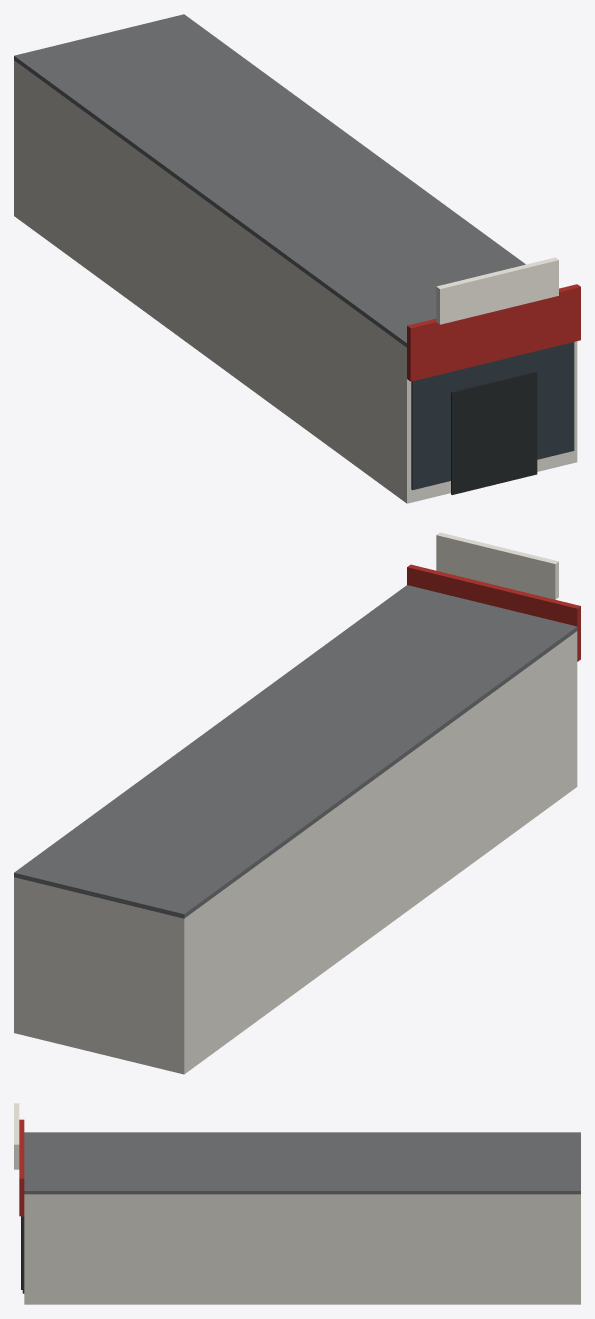
Rendered from kiosk-door.glb.
3 views of the same model, one above another, from view 1: azimuth 30°, elevation 25°; view 2: azimuth 150°, elevation 25°; view 3: azimuth 270°, elevation 25° (orthographic). The views are drawn at different scales.
Visible parts, largest first — view 1: kiosk-door; view 2: kiosk-door; view 3: kiosk-door.
Boxes of the visible parts, x1,y1,x2,y2 form: kiosk-door: (14,14,580,503); kiosk-door: (14,532,580,1074); kiosk-door: (14,1103,580,1304).
Bounding box in the file's own units: 4 × 4.8 × 16.3.
